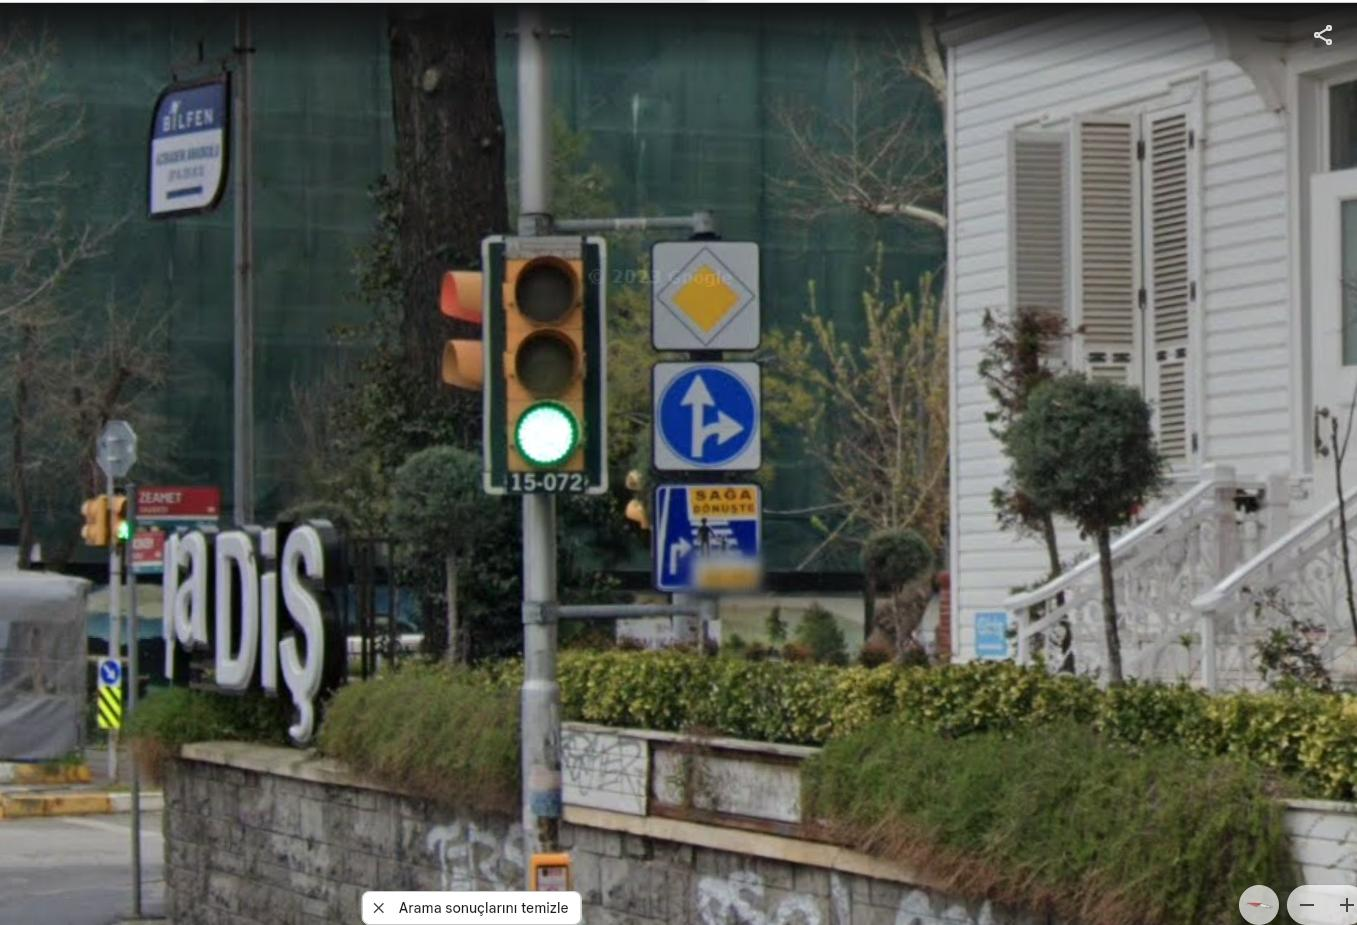greenlight: (497, 247, 588, 465)
